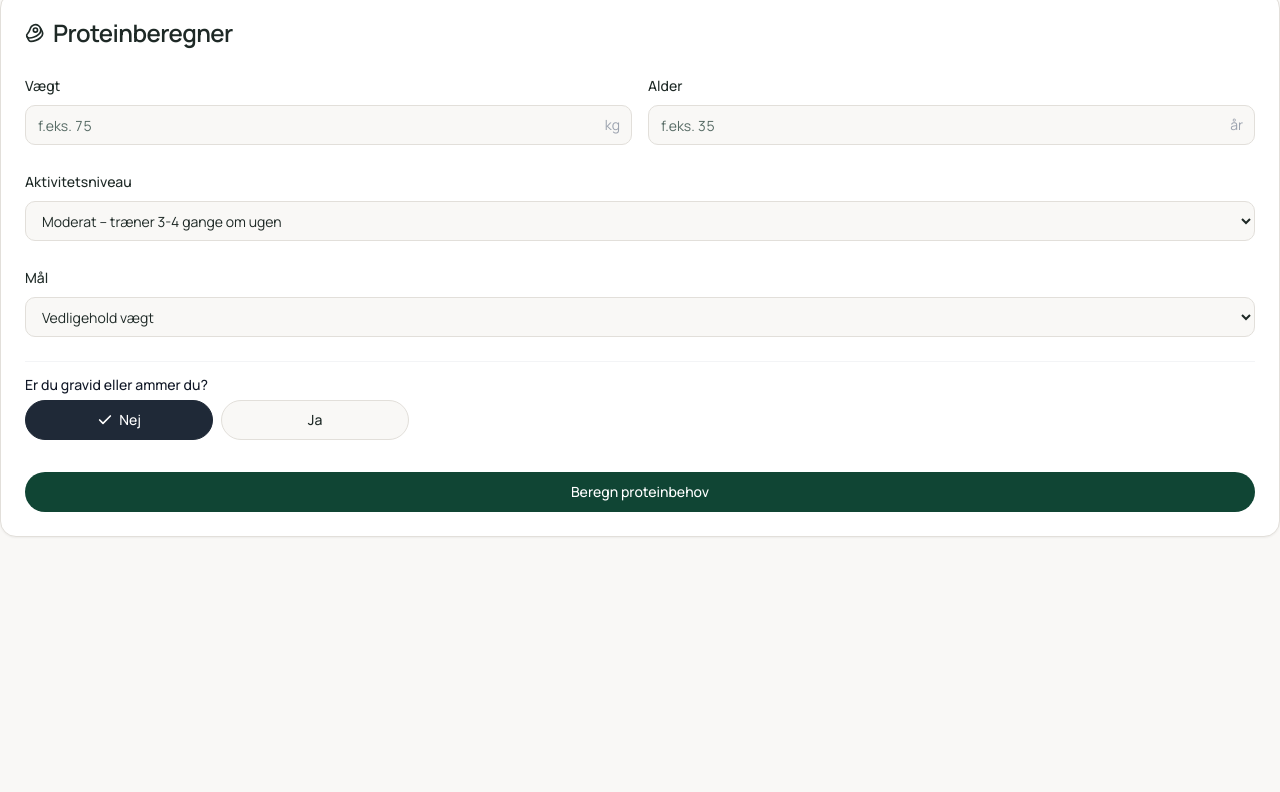
Test: ProteinCalculator › turns the goal and activity level into a daily target with a range
Type "80" into the field labelled "Vægt" at (328, 125), box 25,105 -> 632,145
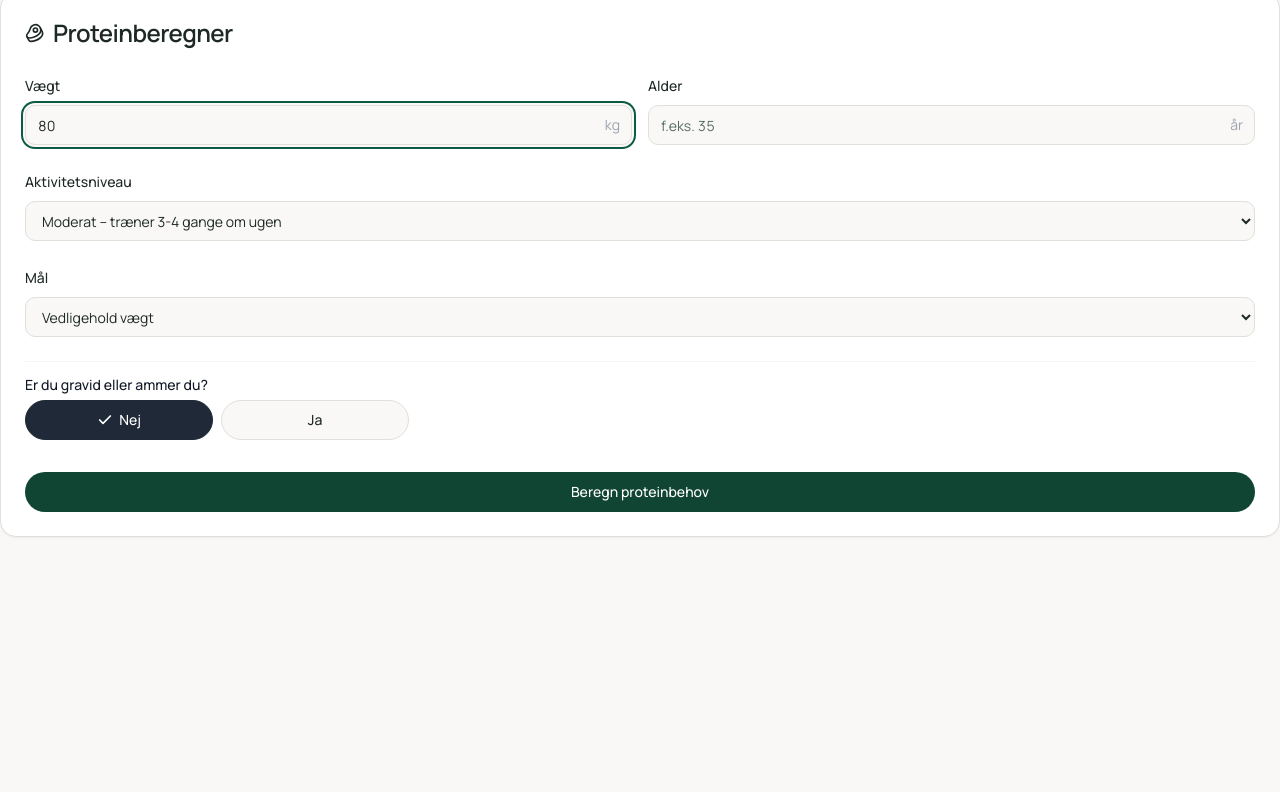
Type "35" into the field labelled "Alder" at (952, 125), box 648,105 -> 1255,145
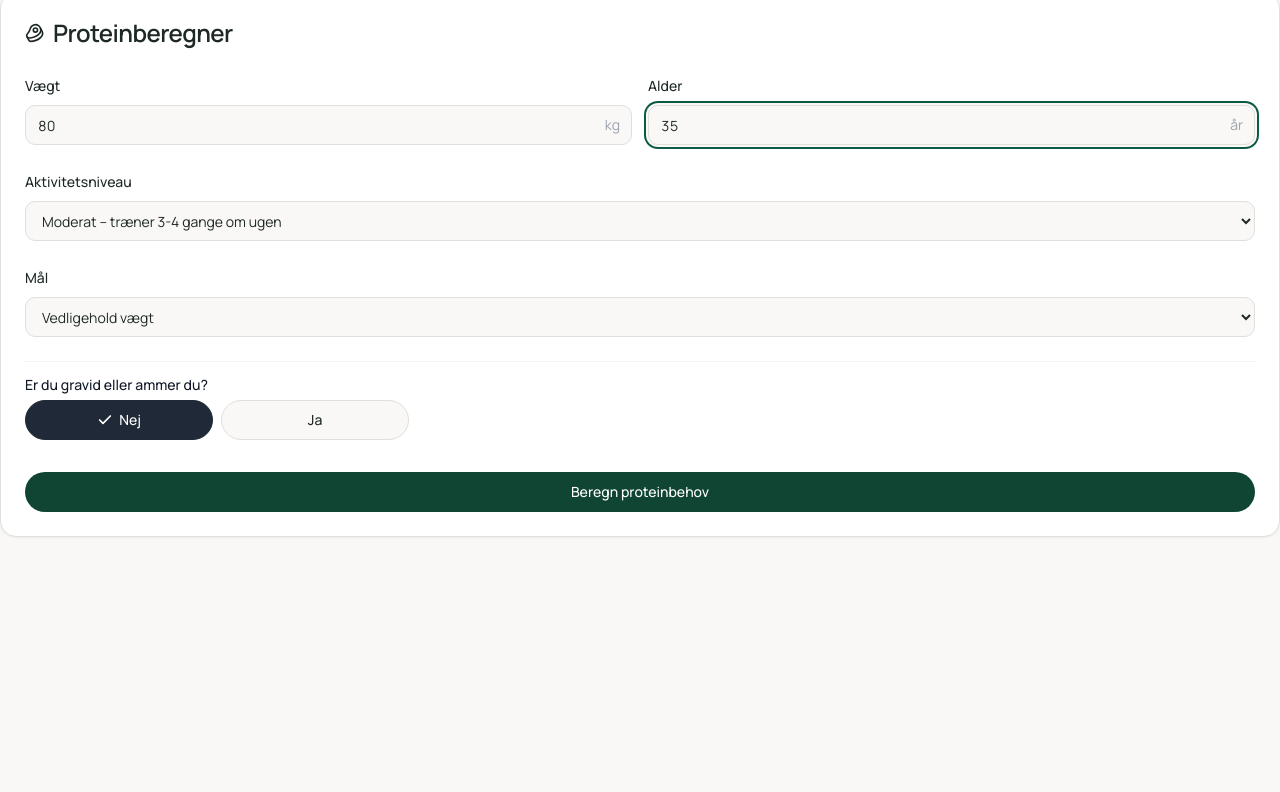
Select "Muskelopbygning" in the dropdown labelled "Mål" at (640, 317), box 25,297 -> 1255,337
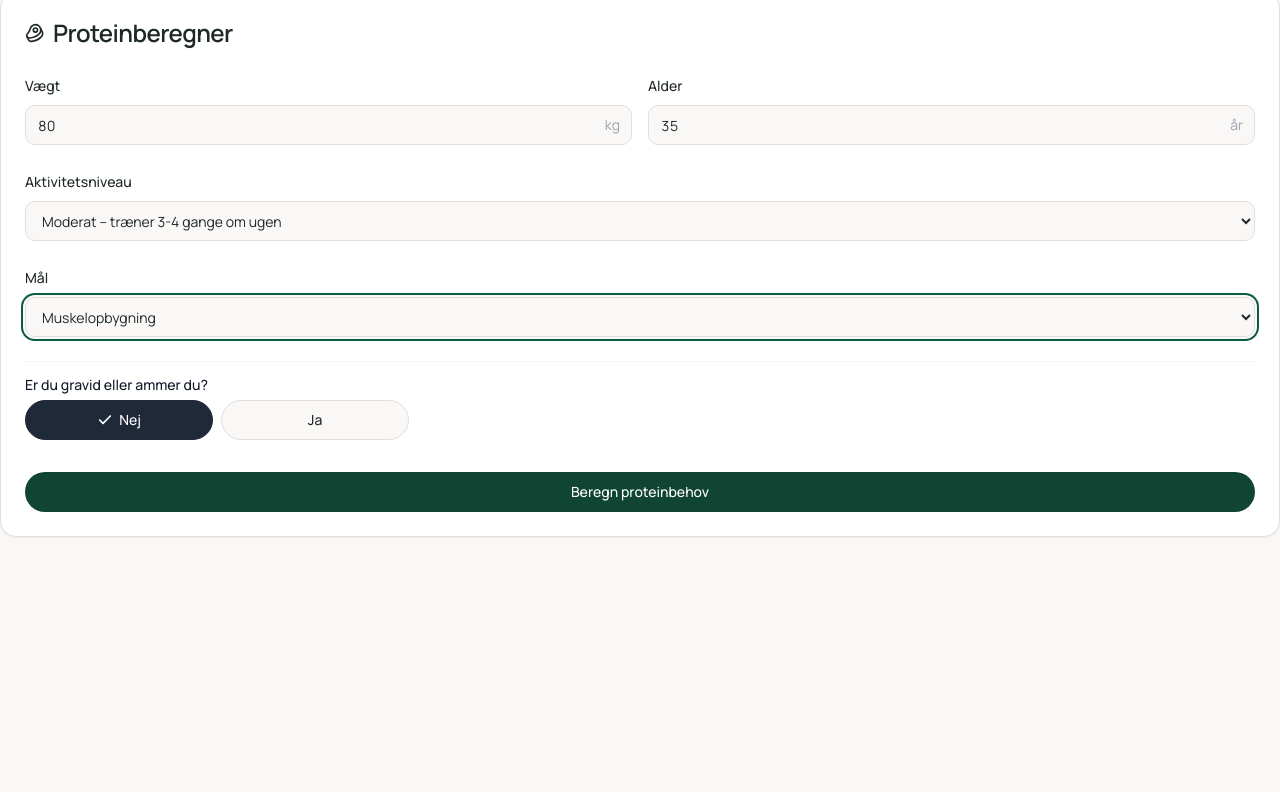
Select "Hård træning – 5 gange om ugen eller mere" in the dropdown labelled "Aktivitetsniveau" at (640, 221), box 25,201 -> 1255,241
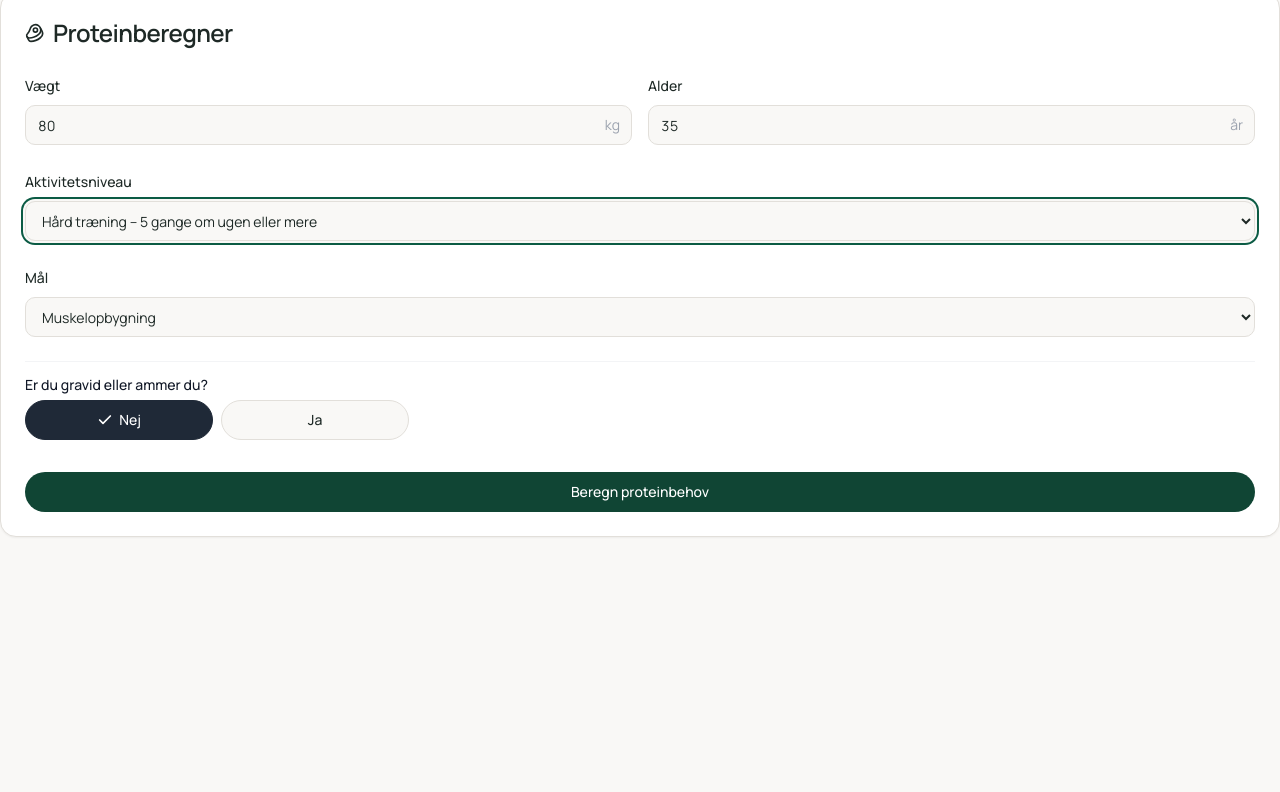
Click the button "Beregn proteinbehov" at (640, 492), box 25,472 -> 1255,512
(page scrolled)
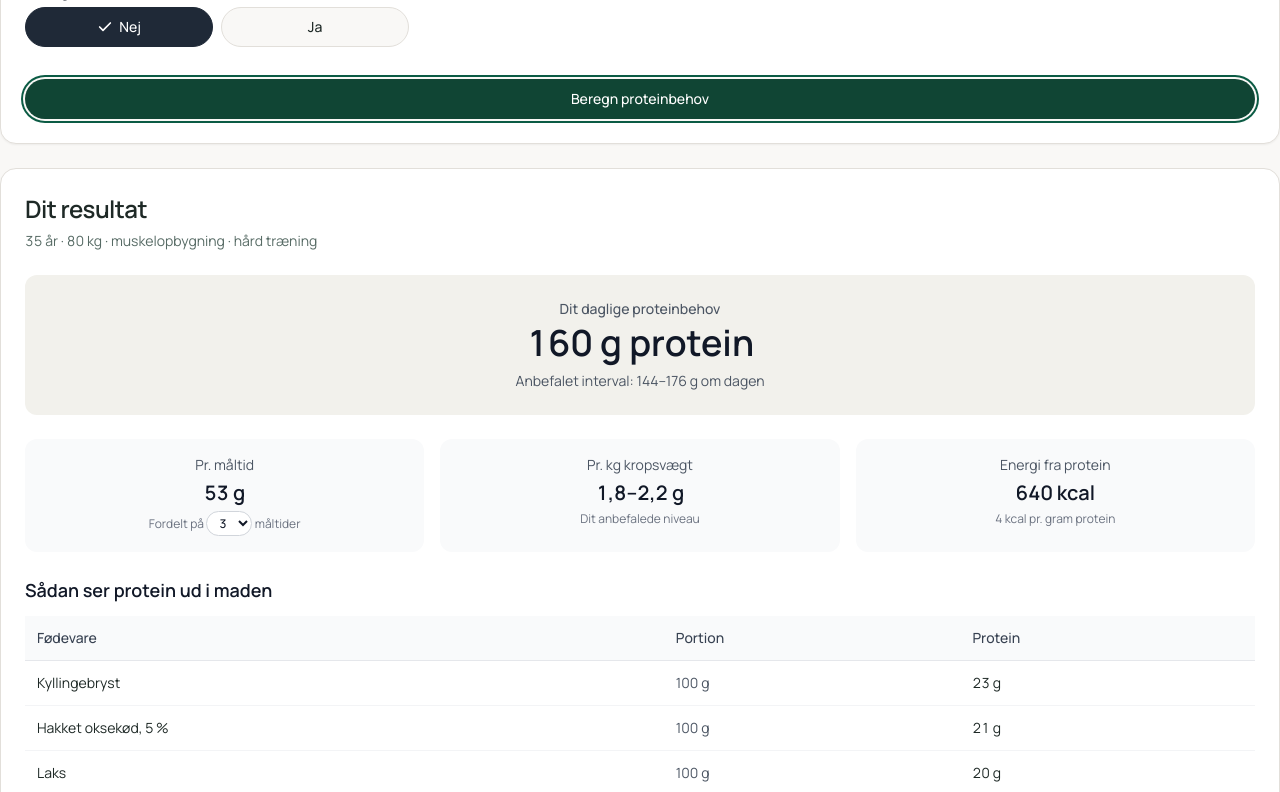
Now the text "160 g protein" is shown, box 526,318 -> 754,367
Now the text "Anbefalet interval: 144–176 g om dagen" is shown, box 516,371 -> 764,390
Now the text "35 år · 80 kg · muskelopbygning · hård træning" is shown, box 25,231 -> 317,250
